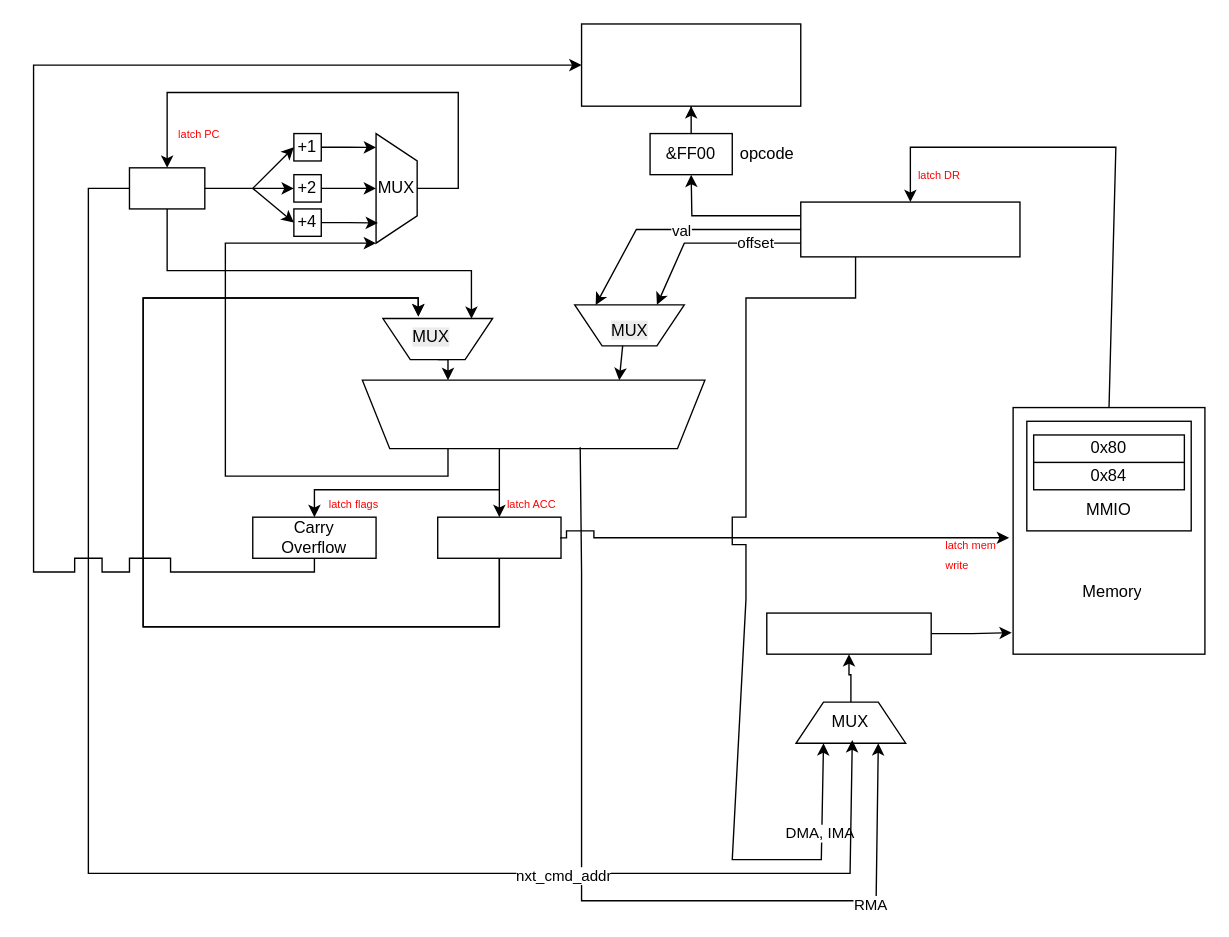
The diagram is 1229 pixels wide and 937 high, and some of its shapes have lost their labels. The shapes that lost their labels are listed below. From the top down, each one's centre as x and y in pixels, then its label:
At (x=690, y=64): "Control Unit".
At (x=166, y=187): "PC".
At (x=909, y=229): "Data Register".
At (x=533, y=414): "АЛУ".
At (x=498, y=537): "ACC".
At (x=848, y=633): "Address decoder".
